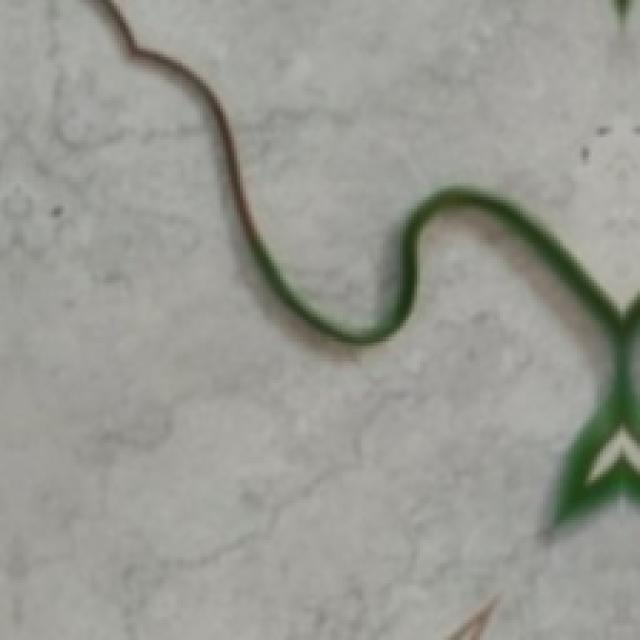red-tailed green ratsnake: (104, 0, 640, 522)
